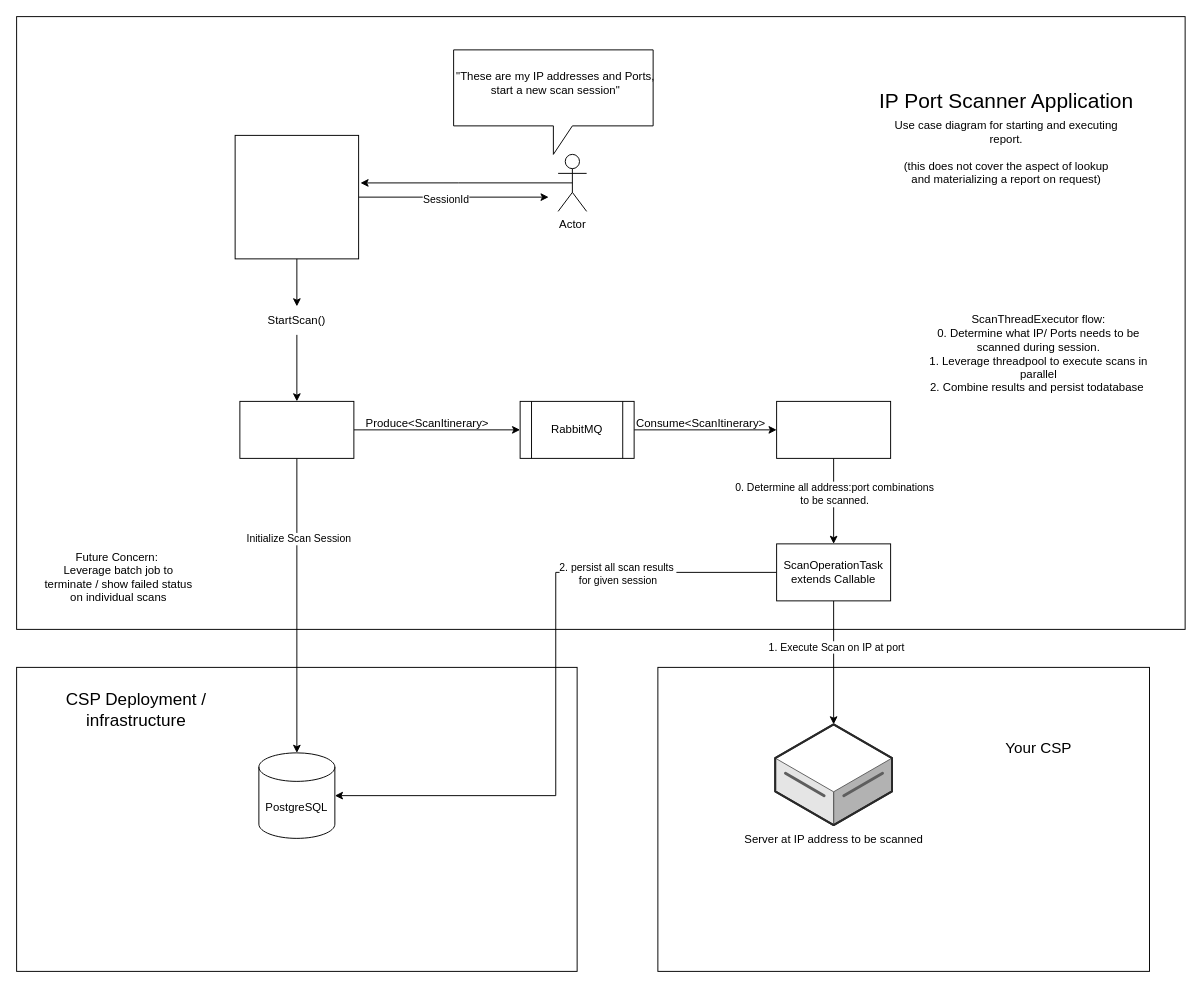
Image size: 1202x988. Some labels were removed from this diagram. The box of each missing label's shape, as (x1, y1, x2, y2) in pixels:
Scanner: (776, 400, 891, 458)
TenantController: (234, 134, 359, 259)
TenantService: (239, 400, 354, 458)
